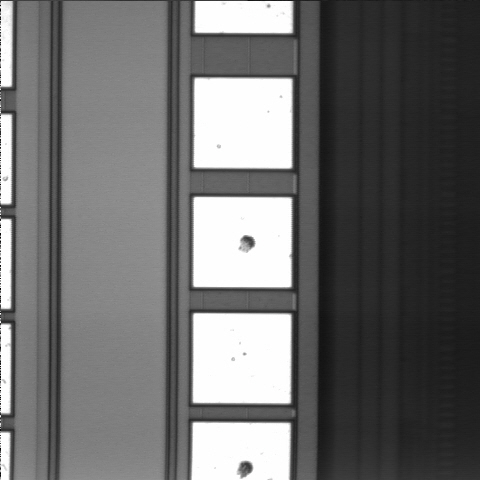pad: (193, 197, 292, 287), (194, 78, 292, 168), (193, 313, 291, 403)
